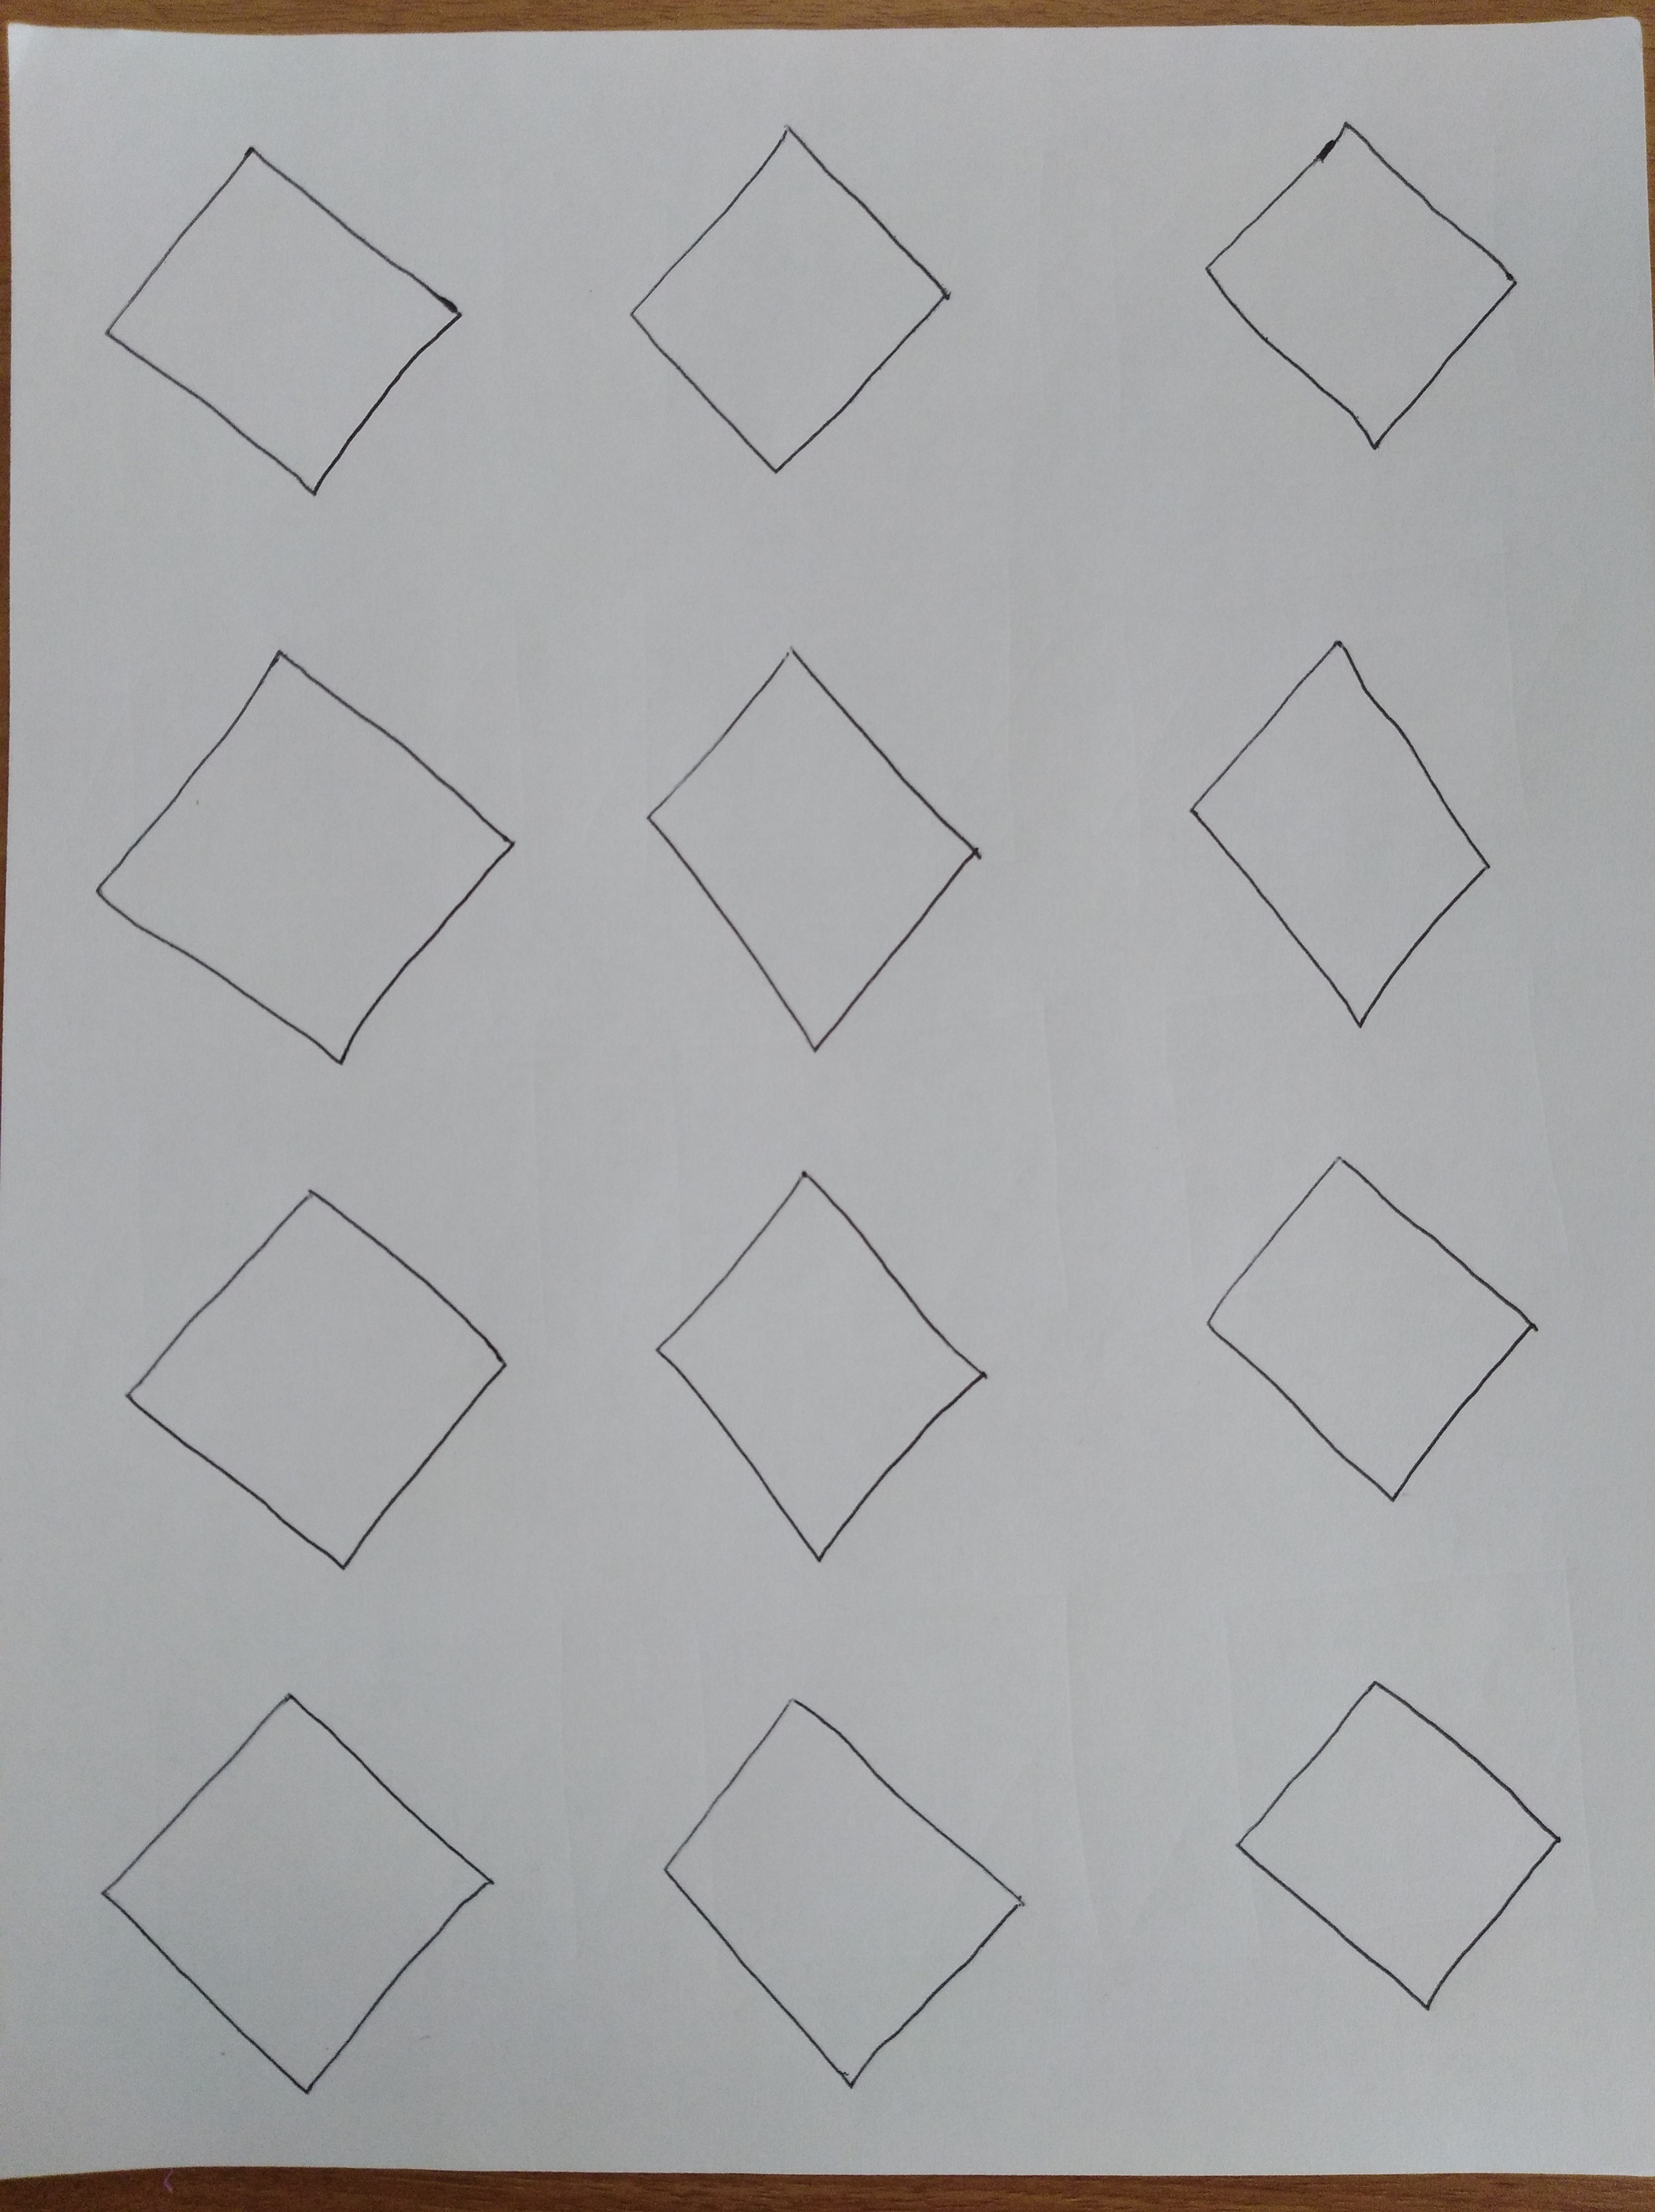decision: (82, 624, 541, 1091), (68, 1672, 534, 2118), (85, 1162, 556, 1588), (61, 118, 530, 523), (643, 1654, 1048, 2109), (622, 620, 1024, 1076), (624, 1147, 1034, 1585), (1154, 612, 1526, 1070), (1166, 1121, 1577, 1529), (1201, 1649, 1587, 2036), (603, 101, 977, 500), (1177, 97, 1551, 487)
